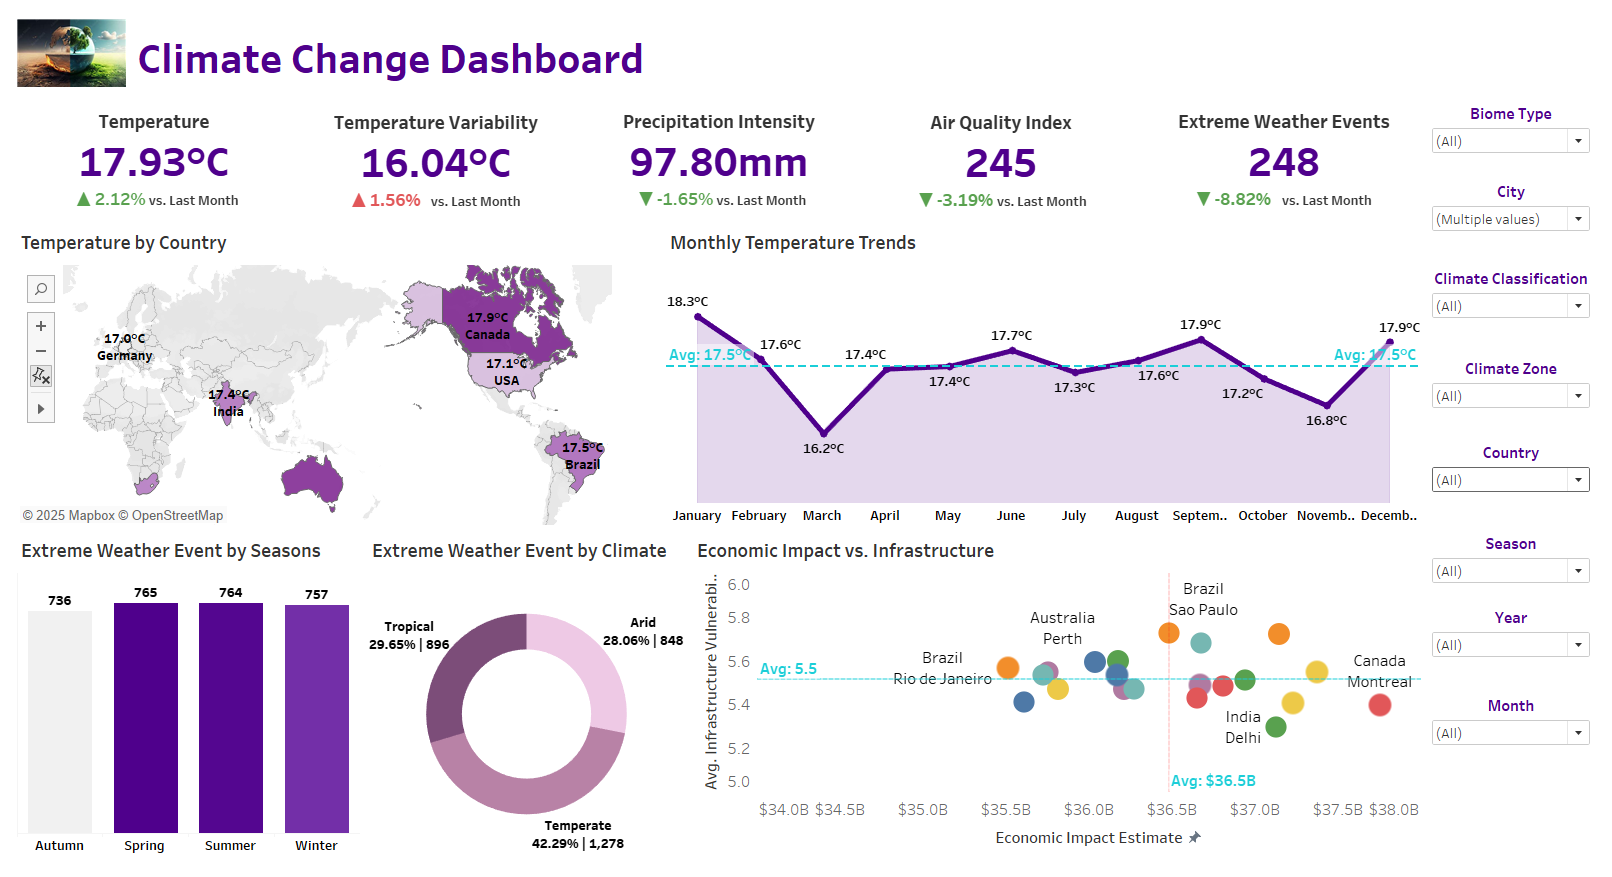

Layout of this report page (visuals, bound fields, positions):
{"tool":"tableau","page":{"name":"Dashboard 1","canvas":[1000,1000],"units":"permille","ordinal":0},"visuals":[{"type":"image","param":"C:/Users/Ramsha/OneDrive/Desktop/DA Practice/Climate Change DA/Climate Change Fu","box":[5,10,73,97.2]},{"type":"text","box":[78,10,809.5,97.2]},{"type":"blank","box":[887.5,10,107.5,97.2]},{"type":"worksheet","title":"Temperature","mark":"Automatic","box":[5,107.2,176.5,142.1]},{"type":"worksheet","title":"Temperature Variability","mark":"Automatic","box":[181.5,107.2,176.5,142.1]},{"type":"worksheet","title":"Precipitation Intensity","mark":"Automatic","box":[358,107.2,176.5,142.1]},{"type":"worksheet","title":"AQI","mark":"Automatic","box":[534.5,107.2,176.5,142.1]},{"type":"worksheet","title":"EWE","mark":"Automatic","box":[711,107.2,176.5,142.1]},{"type":"filter","title":"Economic Impact vs. Infrastructure","param":"[federated.1jia8k613rd3z51d3bfad075m8pv].[none:Biome Type:nk]","box":[887.5,107.2,107.5,91]},{"type":"filter","title":"Economic Impact vs. Infrastructure","param":"[federated.1jia8k613rd3z51d3bfad075m8pv].[none:City:nk]","box":[887.5,198.3,107.5,101]},{"type":"worksheet","title":"Temperature by Country","mark":"Automatic","box":[5,249.3,405.6,357.9]},{"type":"worksheet","title":"Monthly Temperature Trends","mark":"Area","rows":["Calculation_1882504665764982799","Calculation_1882504665764982799"],"cols":["Date"],"box":[410.6,249.3,476.8,357.9]},{"type":"filter","title":"Economic Impact vs. Infrastructure","param":"[federated.1jia8k613rd3z51d3bfad075m8pv].[none:Climate Classification:nk]","box":[887.5,299.2,107.5,104.7]},{"type":"filter","title":"Economic Impact vs. Infrastructure","param":"[federated.1jia8k613rd3z51d3bfad075m8pv].[none:Climate Zone:nk]","box":[887.5,404,107.5,97.3]},{"type":"filter","title":"Economic Impact vs. Infrastructure","param":"[federated.1jia8k613rd3z51d3bfad075m8pv].[none:Country:nk]","box":[887.5,501.2,107.5,106]},{"type":"worksheet","title":"Extreme Weather Event by Seasons","mark":"Automatic","rows":["Calculation_77968589777498112"],"cols":["Season"],"box":[5,607.2,219.4,382.8]},{"type":"worksheet","title":"Extreme Weather Event by Climate ","mark":"Pie","rows":["Calculation_1882504665797308449","Calculation_1882504665797308449"],"box":[224.4,607.2,203.1,382.8]},{"type":"worksheet","title":"Economic Impact vs. Infrastructure","mark":"Automatic","rows":["Infrastructure_Vulnerability Score"],"cols":["Economic Impact Estimate"],"box":[427.5,607.2,460,382.8]},{"type":"filter","title":"Economic Impact vs. Infrastructure","param":"[federated.1jia8k613rd3z51d3bfad075m8pv].[none:Season:nk]","box":[887.5,607.2,107.5,86]},{"type":"filter","title":"Economic Impact vs. Infrastructure","param":"[federated.1jia8k613rd3z51d3bfad075m8pv].[yr:Date:ok]","box":[887.5,693.3,107.5,102.2]},{"type":"filter","title":"Economic Impact vs. Infrastructure","param":"[federated.1jia8k613rd3z51d3bfad075m8pv].[mn:Date:ok]","box":[887.5,795.5,107.5,194.5]}]}

Visuals, with their boxes on the dashboard's canvas, which has no fixed pixel size, in thousandths of its width and height (x1, y1, x2, y2). These are canvas units, not pixel positions in the 1612x877 screenshot, which may show the page scaled, cropped or inside an application window:
image: x1=5 y1=10 x2=78 y2=107
text: x1=78 y1=10 x2=888 y2=107
blank: x1=888 y1=10 x2=995 y2=107
"Temperature" worksheet: x1=5 y1=107 x2=182 y2=249
"Temperature Variability" worksheet: x1=182 y1=107 x2=358 y2=249
"Precipitation Intensity" worksheet: x1=358 y1=107 x2=534 y2=249
"AQI" worksheet: x1=534 y1=107 x2=711 y2=249
"EWE" worksheet: x1=711 y1=107 x2=888 y2=249
"Economic Impact vs. Infrastructure" filter: x1=888 y1=107 x2=995 y2=198
"Economic Impact vs. Infrastructure" filter: x1=888 y1=198 x2=995 y2=299
"Temperature by Country" worksheet: x1=5 y1=249 x2=411 y2=607
"Monthly Temperature Trends" worksheet (Area marks): x1=411 y1=249 x2=887 y2=607
"Economic Impact vs. Infrastructure" filter: x1=888 y1=299 x2=995 y2=404
"Economic Impact vs. Infrastructure" filter: x1=888 y1=404 x2=995 y2=501
"Economic Impact vs. Infrastructure" filter: x1=888 y1=501 x2=995 y2=607
"Extreme Weather Event by Seasons" worksheet: x1=5 y1=607 x2=224 y2=990
"Extreme Weather Event by Climate " worksheet (Pie marks): x1=224 y1=607 x2=428 y2=990
"Economic Impact vs. Infrastructure" worksheet: x1=428 y1=607 x2=888 y2=990
"Economic Impact vs. Infrastructure" filter: x1=888 y1=607 x2=995 y2=693
"Economic Impact vs. Infrastructure" filter: x1=888 y1=693 x2=995 y2=796
"Economic Impact vs. Infrastructure" filter: x1=888 y1=796 x2=995 y2=990
